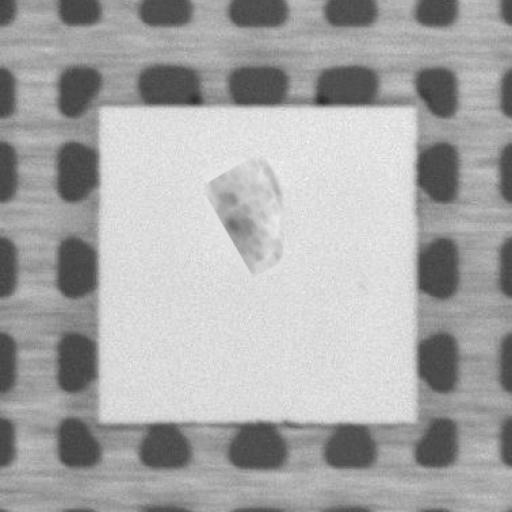DIE_INK: (199, 153, 285, 278)
